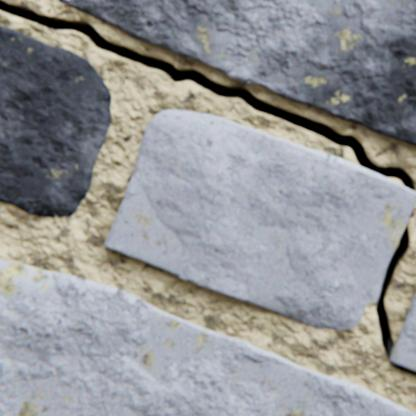brick: (105, 110, 415, 329), (0, 258, 415, 415), (60, 0, 415, 145), (0, 25, 112, 216), (390, 291, 415, 370)
crack: (0, 0, 414, 191), (375, 225, 408, 359), (392, 361, 415, 373)
